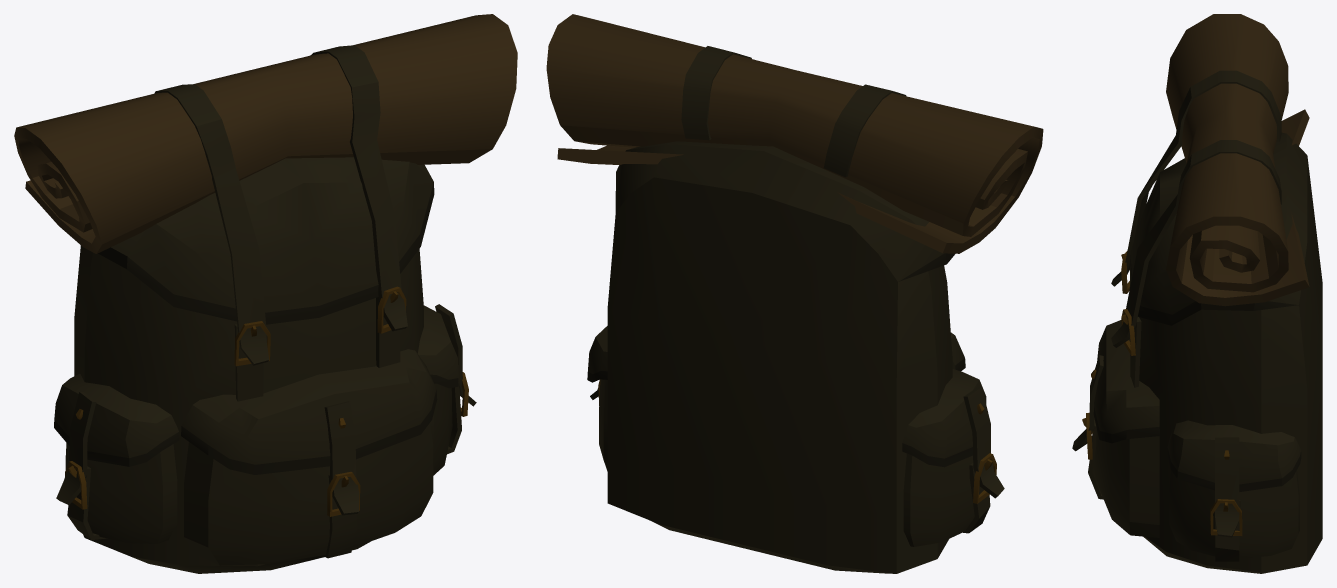
Rendered from Backpack.fbx.
The picture shows the model from 3 angles, left to right: view 1: azimuth 30°, elevation 25°; view 2: azimuth 150°, elevation 25°; view 3: azimuth 270°, elevation 25°; orthographic projection. The views are drawn at different scales.
Parts seen in each view (by area): view 1: Backpack; view 2: Backpack; view 3: Backpack.
Boxes of the visible parts, bbox=[...] form: Backpack: bbox=[14, 14, 517, 573]; Backpack: bbox=[546, 14, 1043, 573]; Backpack: bbox=[1072, 14, 1322, 573].
Bounding box in the file's own units: 334 × 175 × 312.
